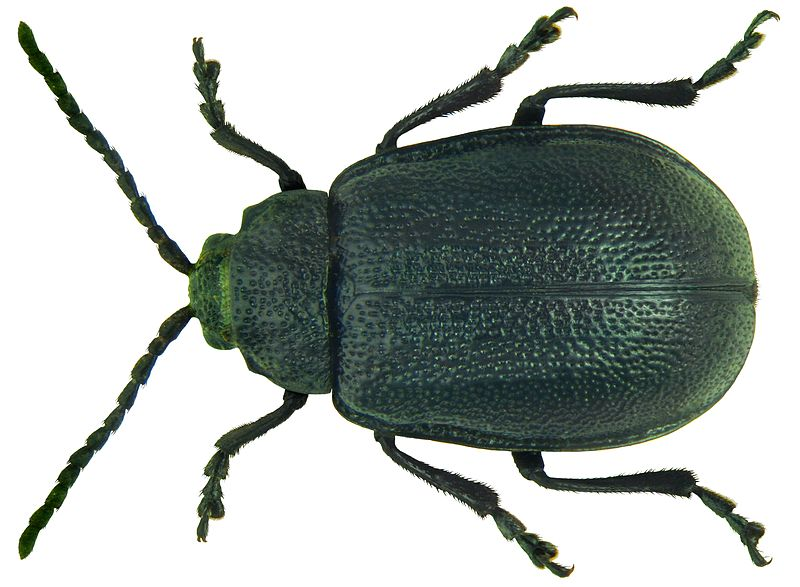Galeruca_tanaceti: (9, 2, 787, 584)
